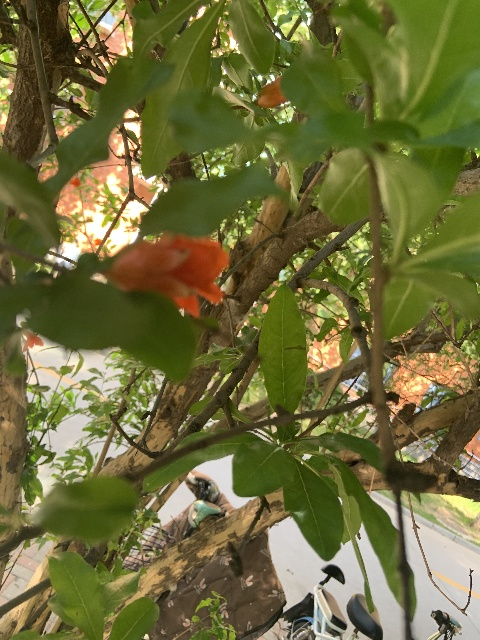bud: (257, 75, 288, 108)
flower: (105, 232, 230, 318), (22, 330, 43, 352)
